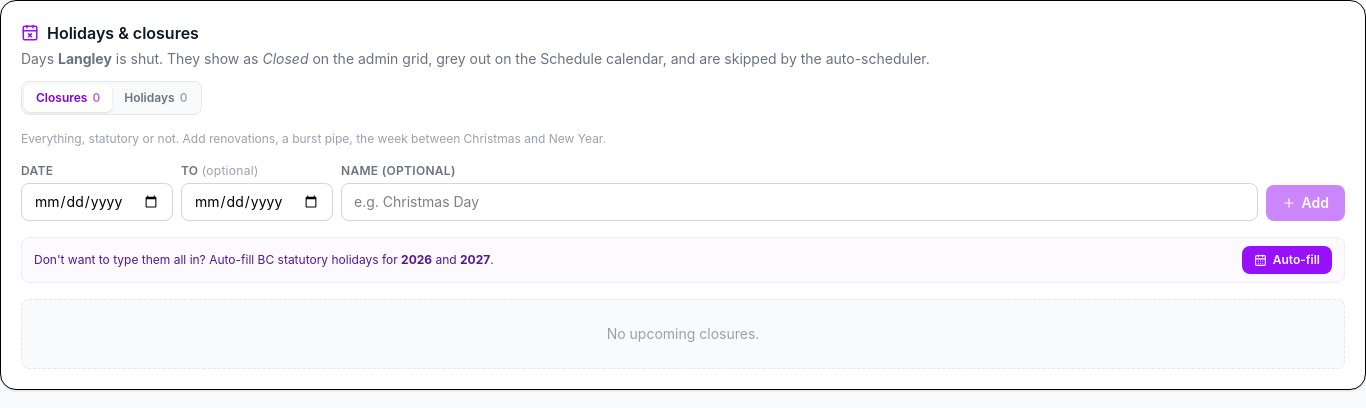
Test case: closing a stretch in one go › says how many days the button is about to close
In the 1st date field: x=97, y=202 [21,183,173,221], type "2099-12-24"
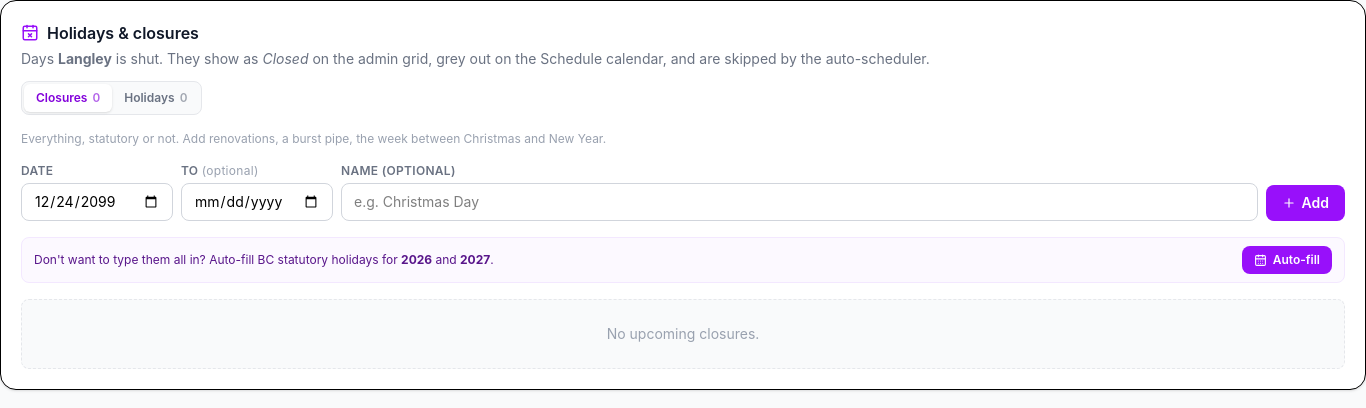
Expected: the button "Add" is shown, [1266,185,1345,221]
In the date field named "Last day of the closure": x=257, y=202 [181,183,333,221], type "2099-12-26"
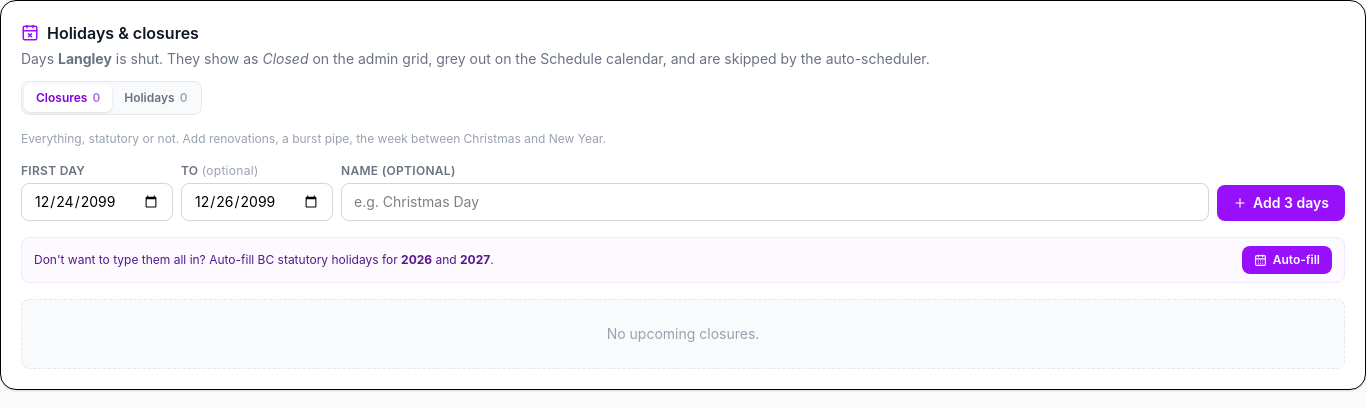
Now the button "Add 3 days" is shown, box [1217,185,1345,221]
